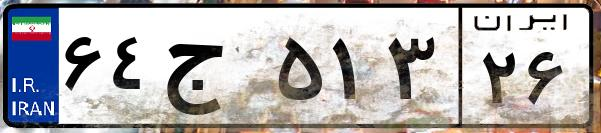1: (330, 28, 385, 110)
2: (475, 38, 525, 113)
3: (385, 28, 445, 110)
4: (110, 28, 158, 98)
5: (270, 28, 330, 110)
6: (57, 26, 110, 100), (525, 38, 570, 115)
ج: (158, 20, 270, 120)
